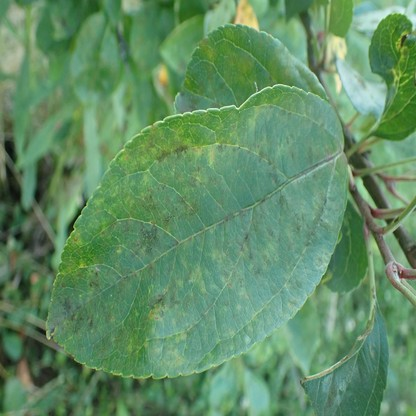scab: (49, 104, 347, 374), (179, 37, 289, 113), (353, 73, 367, 89), (328, 388, 337, 408)
